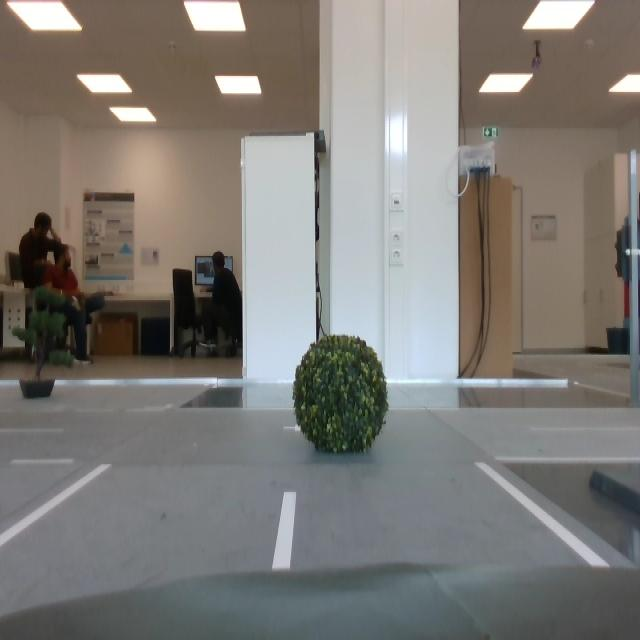potted plant: (292, 333, 389, 454), (12, 285, 76, 398)
traffic light: (616, 217, 631, 284)
